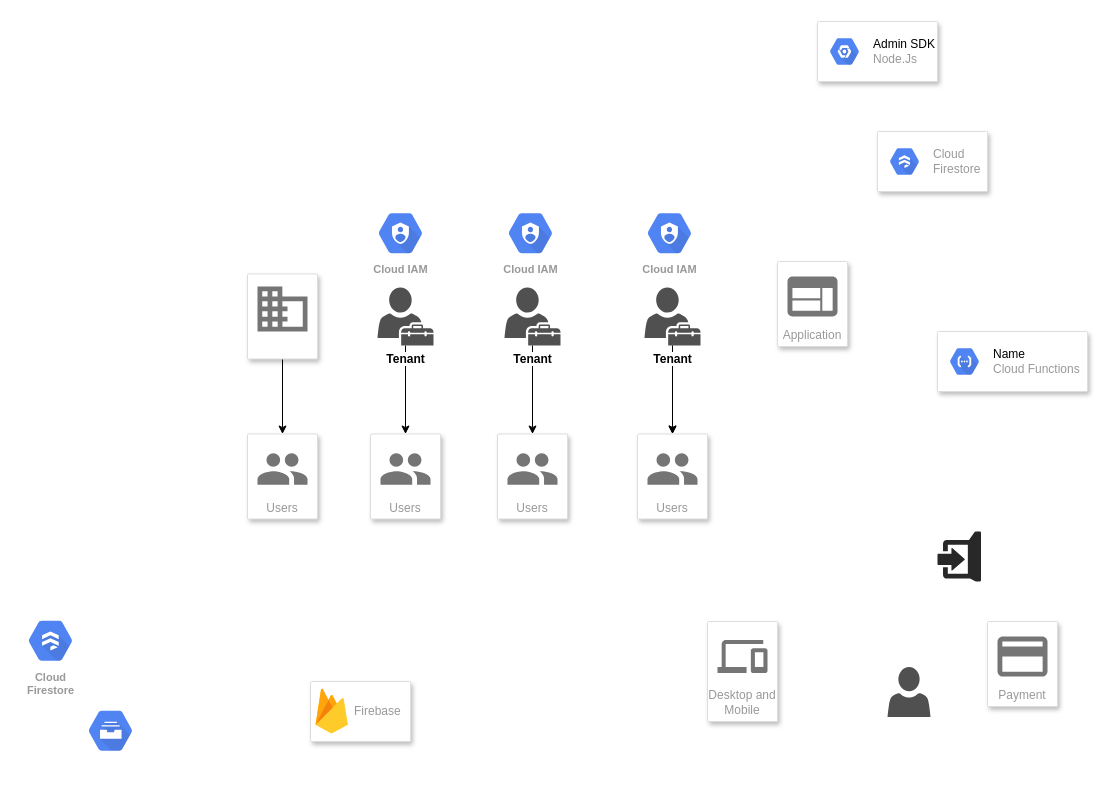
The diagram is 1111 pixels wide and 804 high, and some of its shapes have lost their labels. Each missing label, with the centre of its shape:
Cloud Filestore: [110,730]
Project: [283,317]
